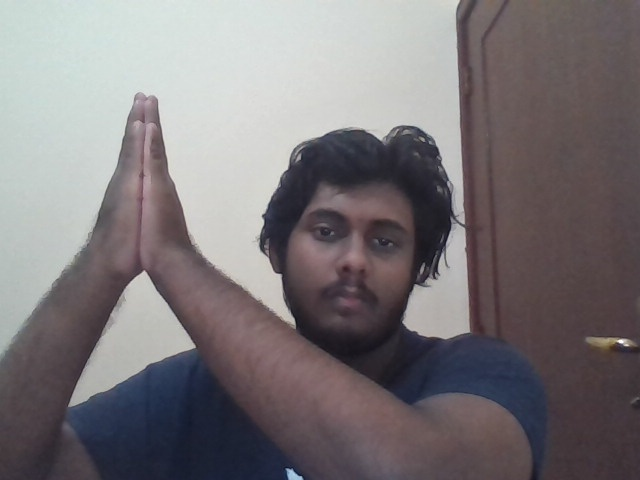namaste: (93, 92, 193, 274)
